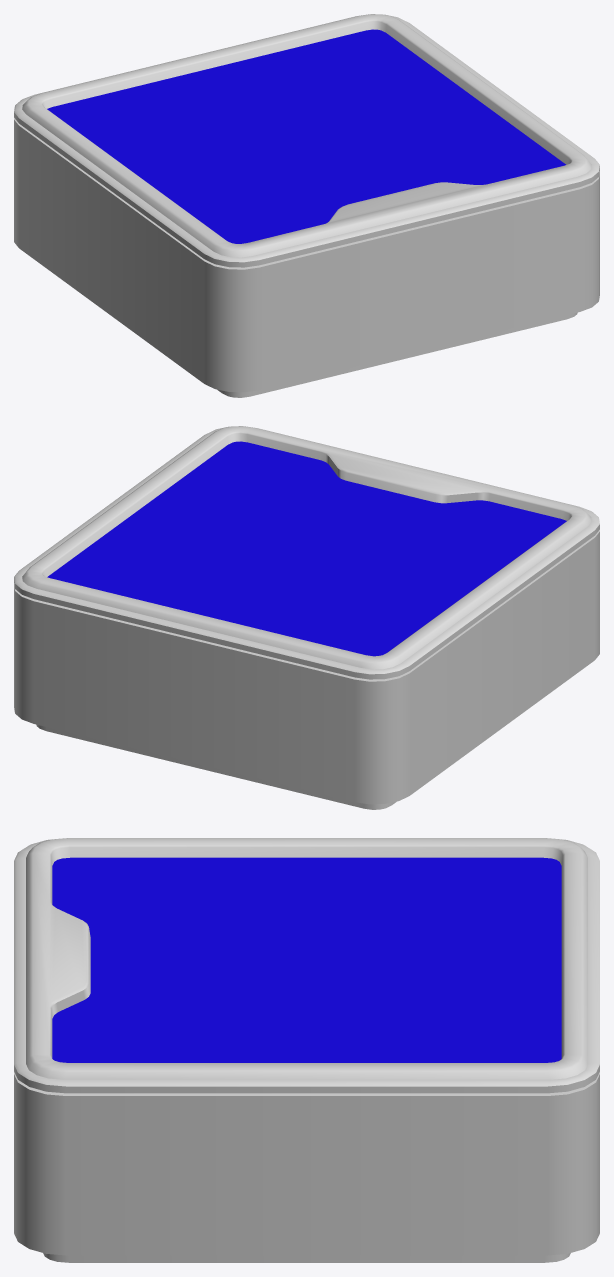
Rendered from Jacuzzi_01.fbx.
3 renders of one model, top to bottom at view 1: azimuth 30°, elevation 25°; view 2: azimuth 150°, elevation 25°; view 3: azimuth 270°, elevation 25°, orthographic. The views are drawn at different scales.
Visible parts, largest first — view 1: Jacuzzi, Jacuzzi.001; view 2: Jacuzzi, Jacuzzi.001; view 3: Jacuzzi, Jacuzzi.001.
Boxes of the visible parts, bbox=[...] form: Jacuzzi: bbox=[14, 14, 599, 397]; Jacuzzi.001: bbox=[47, 29, 565, 243]; Jacuzzi: bbox=[14, 426, 599, 809]; Jacuzzi.001: bbox=[47, 441, 566, 656]; Jacuzzi: bbox=[14, 838, 599, 1262]; Jacuzzi.001: bbox=[52, 857, 561, 1062].
Size of the model in its own units: 280 by 104 by 280.
